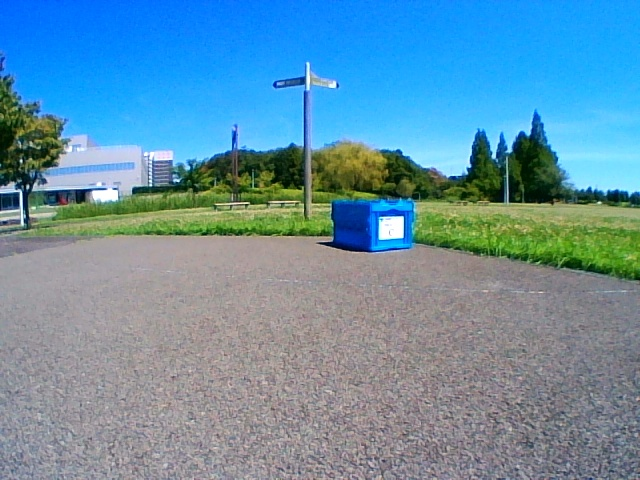blue_box: (334, 199, 411, 247)
tag: (378, 217, 403, 239)
